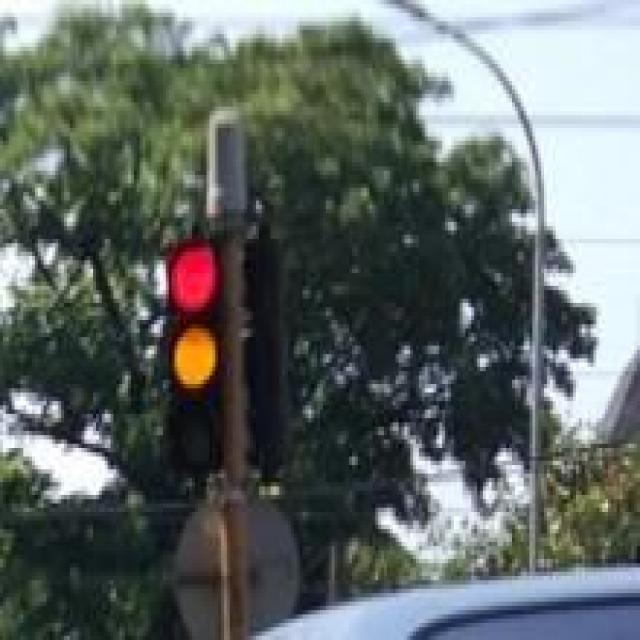yellow_light: (157, 235, 227, 478)
